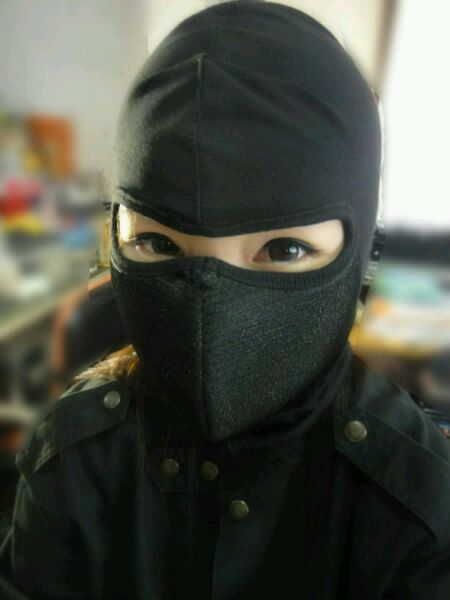face_mask: (127, 130, 353, 447)
